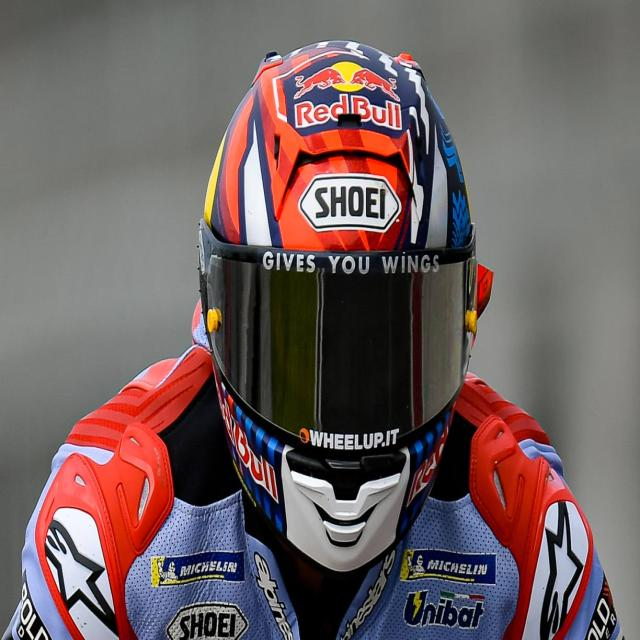Helmet: (199, 40, 480, 574)
